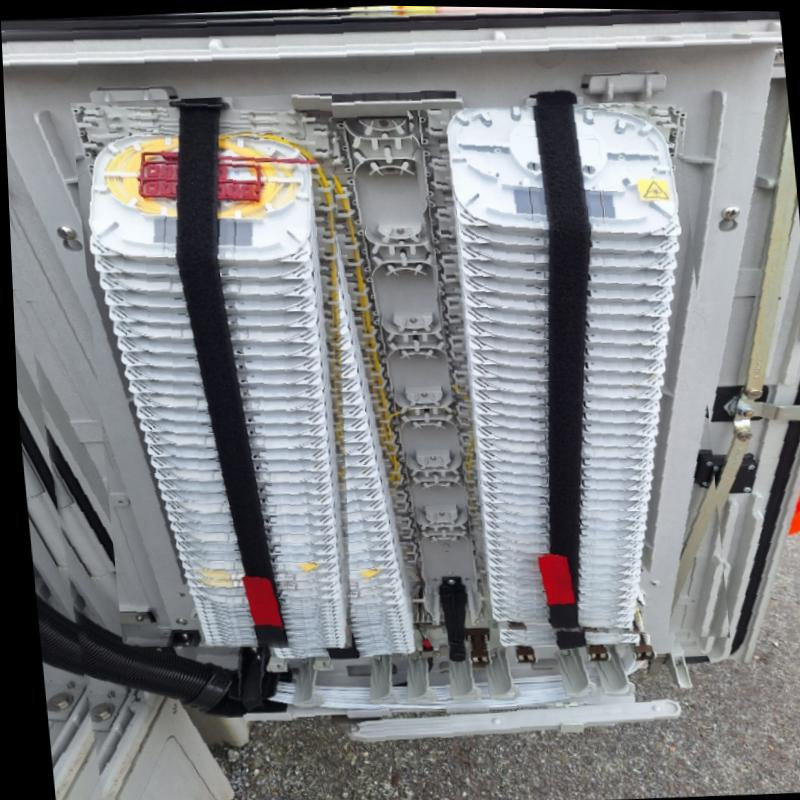NT-Gehause: (1, 7, 800, 800)
Spleiskassetten: (75, 97, 352, 648), (449, 101, 681, 632)
